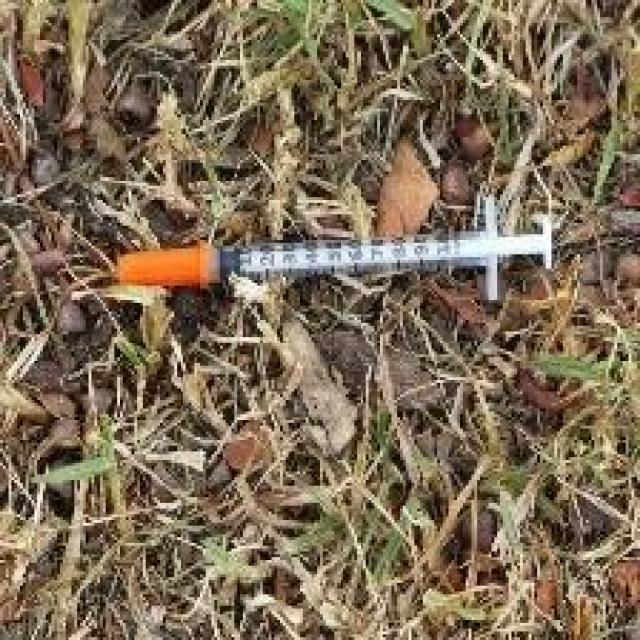syringe: (118, 210, 572, 384)
